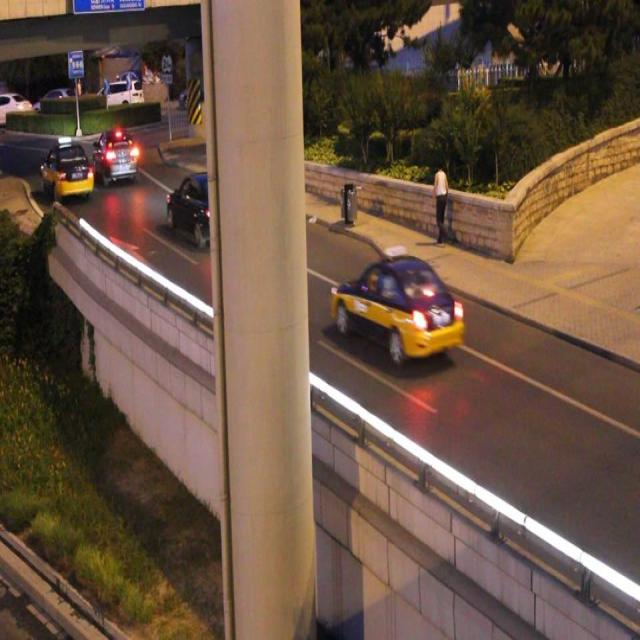car: (332, 257, 464, 359), (167, 174, 232, 244), (40, 148, 93, 196), (94, 132, 138, 181)
